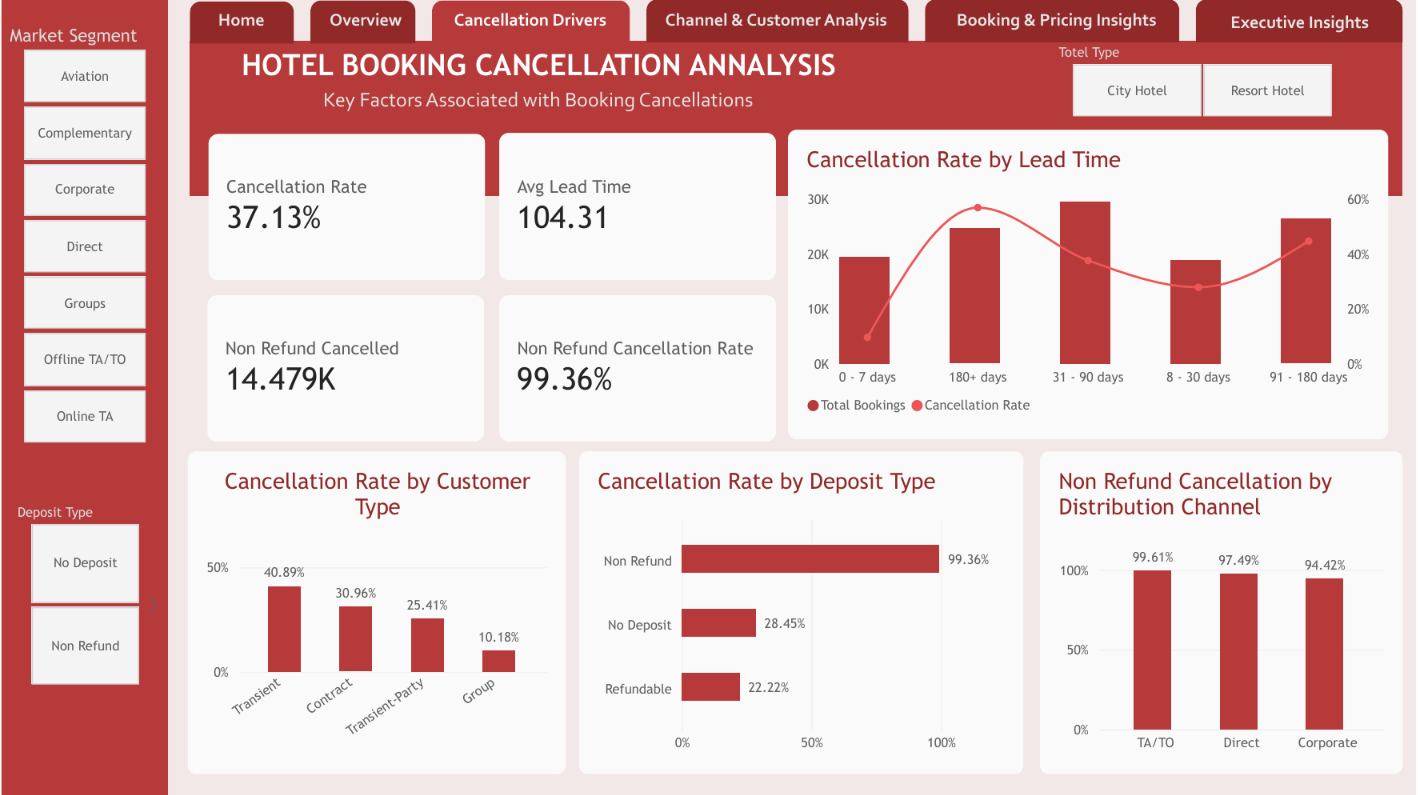

The page's visual inventory and layout, read from the dashboard file:
{"tool":"powerbi","page":{"name":"Cancellation Drivers","canvas":[1280,720],"ordinal":2},"visuals":[{"type":"shape","box":[171.3,38.3,1096.7,140],"z":0,"group":"g4"},{"type":"textbox","box":[230.4,47.3,593.4,35.1],"z":0,"group":"g5"},{"type":"group","id":"g1","title":"Group 2","box":[154.4,385,364,328.2],"z":0},{"type":"shape","box":[390.2,0.7,178.6,39],"z":1000,"group":"g4"},{"type":"textbox","box":[257.8,83.6,529.6,25.3],"z":1000,"group":"g5"},{"type":"group","id":"g2","title":"Group 2","box":[511.1,385.2,429.3,328.2],"z":1000},{"type":"shape","box":[835.7,0,229.8,39],"z":2000,"group":"g4"},{"type":"group","id":"g3","title":"Group 2","box":[933.9,385.2,343.7,330.8],"z":2000},{"type":"shape","box":[1.2,0,150.3,720.8],"z":3000},{"type":"shape","box":[584.1,0,236.4,39],"z":3000,"group":"g4"},{"type":"shape","box":[280.2,0.6,94.8,39],"z":4000,"group":"g4"},{"type":"columnChart","title":"Non Refund Cancellation by Distribution Channel","fields":{"Category":["hotel_bookings.distribution_channel"],"Y":[" Measures.Non Refund Cancellation Rate"]},"box":[950.8,393,317.8,307.4],"z":4000},{"type":"shape","box":[1080.8,0.3,187.4,39],"z":5000,"group":"g4"},{"type":"clusteredColumnChart","title":"Cancellation Rate by Customer Type","fields":{"Y":[" Measures.Cancellation Rate"],"Category":["hotel_bookings.customer_type"]},"box":[168.6,399.5,333.4,302.2],"z":5000},{"type":"shape","box":[171.3,2.1,93.7,37.8],"z":6000,"group":"g4"},{"type":"barChart","title":"Cancellation Rate by Deposit Type","fields":{"Category":["hotel_bookings.deposit_type"],"Y":[" Measures.Cancellation Rate"]},"box":[522.7,403.4,402.1,297],"z":6000},{"type":"group","id":"g4","title":"Group 1","box":[168.9,0,1099.3,178.3],"z":7000},{"type":"group","id":"g5","title":"Group 3","box":[230.4,47.3,593.4,61.6],"z":7000,"group":"g4"},{"type":"group","id":"g6","title":"Group 5","box":[168.9,9,885.7,28],"z":8000,"group":"g4"},{"type":"slicer","fields":{"Values":["hotel_bookings.hotel"]},"box":[949.5,41,273.6,67.2],"z":8000},{"type":"textbox","box":[1105.1,10.6,139.3,25.3],"z":9000,"group":"g4"},{"type":"slicer","fields":{"Values":["hotel_bookings.market_segment"]},"box":[0,23.2,150.3,379.9],"z":9000},{"type":"group","id":"g7","title":"Group 2","box":[713.4,110,555.2,282.8],"z":10000},{"type":"lineClusteredColumnComboChart","title":"Cancellation Rate by Lead Time","fields":{"Category":["hotel_bookings.lead_time_groups"],"Y":[" Measures.Total Bookings"],"Y2":[" Measures.Cancellation Rate"]},"box":[726.4,121.9,527.9,263.3],"z":11000},{"type":"slicer","fields":{"Values":["hotel_bookings.deposit_type"]},"box":[7.3,456.9,136.8,164.9],"z":12000},{"type":"shape","box":[933.9,385.2,343.7,330.8],"z":12500,"group":"g3"},{"type":"group","id":"g8","title":"Group 2","box":[172.5,110,279.9,144.8],"z":13000},{"type":"group","id":"g9","title":"Group 2","box":[444,110,279.9,144.8],"z":14000},{"type":"shape","box":[154.4,385,364,328.2],"z":14000,"group":"g1"},{"type":"shape","box":[713.4,110,555.2,282.8],"z":14500,"group":"g7"},{"type":"shape","box":[172.5,110,279.9,144.8],"z":15000,"group":"g8"},{"type":"shape","box":[444,110,279.9,144.8],"z":15000,"group":"g9"},{"type":"group","id":"g10","title":"Group 2","box":[171.3,248,279.9,144.8],"z":15000},{"type":"shape","box":[171.3,248,279.9,144.8],"z":15000,"group":"g10"},{"type":"shape","box":[442.3,248,279.9,144.8],"z":15000,"group":"g11"},{"type":"shape","box":[511.1,385.2,429.3,328.2],"z":15000,"group":"g2"},{"type":"cardVisual","title":"Total Bookings","fields":{"Data":[" Measures.Cancellation Rate"]},"box":[187.9,152.2,253.4,65.1],"z":16000,"group":"g8"},{"type":"cardVisual","title":"Total Bookings","fields":{"Data":[" Measures.Avg Lead Time"]},"box":[459.4,152.2,253.4,65.1],"z":16000,"group":"g9"},{"type":"group","id":"g11","title":"Group 2","box":[442.3,248,279.9,144.8],"z":16000},{"type":"cardVisual","title":"Total Bookings","fields":{"Data":[" Measures.Non Refund Cancelled"]},"box":[186.7,290.2,253.4,65.1],"z":16000,"group":"g10"},{"type":"cardVisual","title":"Total Bookings","fields":{"Data":[" Measures.Non Refund Cancellation Rate"]},"box":[457.7,291.3,253.4,65.1],"z":16000,"group":"g11"},{"type":"image","box":[188.2,44.6,51.9,61.5],"z":16001},{"type":"textbox","box":[201.5,132.9,228,20.5],"z":17000,"group":"g8"},{"type":"textbox","box":[473,132.9,228,20.5],"z":17000,"group":"g9"},{"type":"textbox","box":[200.3,270.9,228,20.5],"z":17000,"group":"g10"},{"type":"textbox","box":[471.3,272,228,20.5],"z":17000,"group":"g11"},{"type":"image","box":[359.7,155.1,66.4,65],"z":18000,"group":"g8"},{"type":"image","box":[631.2,155.1,66.4,65],"z":18000,"group":"g9"},{"type":"image","box":[358.5,293.1,66.4,65],"z":18000,"group":"g10"},{"type":"image","box":[629.5,294.2,66.4,65],"z":18000,"group":"g11"},{"type":"textbox","box":[168.9,9.1,96.9,27.8],"z":19000,"group":"g6"},{"type":"textbox","box":[282.2,9.1,95.9,26.7],"z":20000,"group":"g6"},{"type":"textbox","box":[394.5,9.1,168.8,27.8],"z":21000,"group":"g6"},{"type":"textbox","box":[591.7,9,222.2,25.6],"z":22000,"group":"g6"},{"type":"textbox","box":[855.3,9,199.3,23.4],"z":23000,"group":"g6"}]}

Visuals, with their boxes in screenshot pixels (x1, y1, x2, y2), scaled from the page's 1280x720 canvas onto the 1418x795 screenshot:
shape: (190, 42, 1405, 197)
textbox: (255, 52, 913, 91)
"Group 2" group: (171, 425, 574, 787)
shape: (432, 1, 630, 44)
textbox: (286, 92, 872, 120)
"Group 2" group: (566, 425, 1042, 788)
shape: (926, 0, 1180, 43)
"Group 2" group: (1035, 425, 1415, 791)
shape: (1, 0, 168, 794)
shape: (647, 0, 909, 43)
shape: (310, 1, 415, 44)
"Non Refund Cancellation by Distribution Channel" columnChart: (1053, 434, 1405, 773)
shape: (1197, 0, 1405, 43)
"Cancellation Rate by Customer Type" clusteredColumnChart: (187, 441, 556, 775)
shape: (190, 2, 294, 44)
"Cancellation Rate by Deposit Type" barChart: (579, 445, 1025, 773)
"Group 1" group: (187, 0, 1405, 197)
"Group 3" group: (255, 52, 913, 120)
"Group 5" group: (187, 10, 1168, 41)
slicer - hotel_bookings.hotel: (1052, 45, 1355, 119)
textbox: (1224, 12, 1379, 40)
slicer - hotel_bookings.market_segment: (0, 26, 167, 445)
"Group 2" group: (790, 121, 1405, 434)
"Cancellation Rate by Lead Time" lineClusteredColumnComboChart: (805, 135, 1390, 425)
slicer - hotel_bookings.deposit_type: (8, 504, 160, 687)
shape: (1035, 425, 1415, 791)
"Group 2" group: (191, 121, 501, 281)
"Group 2" group: (492, 121, 802, 281)
shape: (171, 425, 574, 787)
shape: (790, 121, 1405, 434)
shape: (191, 121, 501, 281)
shape: (492, 121, 802, 281)
"Group 2" group: (190, 274, 500, 434)
shape: (190, 274, 500, 434)
shape: (490, 274, 800, 434)
shape: (566, 425, 1042, 788)
"Total Bookings" cardVisual: (208, 168, 489, 240)
"Total Bookings" cardVisual: (509, 168, 790, 240)
"Group 2" group: (490, 274, 800, 434)
"Total Bookings" cardVisual: (207, 320, 488, 392)
"Total Bookings" cardVisual: (507, 322, 788, 394)
image: (208, 49, 266, 117)
textbox: (223, 147, 476, 169)
textbox: (524, 147, 777, 169)
textbox: (222, 299, 474, 322)
textbox: (522, 300, 775, 323)
image: (398, 171, 472, 243)
image: (699, 171, 773, 243)
image: (397, 324, 471, 395)
image: (697, 325, 771, 397)
textbox: (187, 10, 294, 41)
textbox: (313, 10, 419, 40)
textbox: (437, 10, 624, 41)
textbox: (655, 10, 902, 38)
textbox: (948, 10, 1168, 36)
